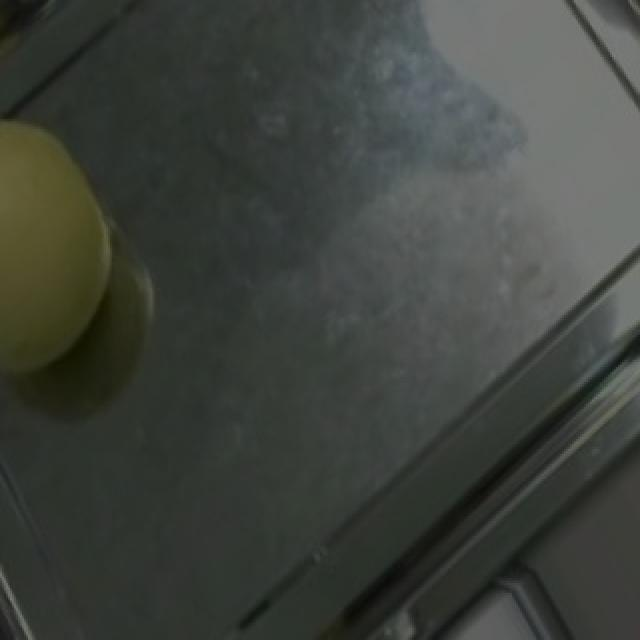Fruit: (0, 80, 154, 404)
